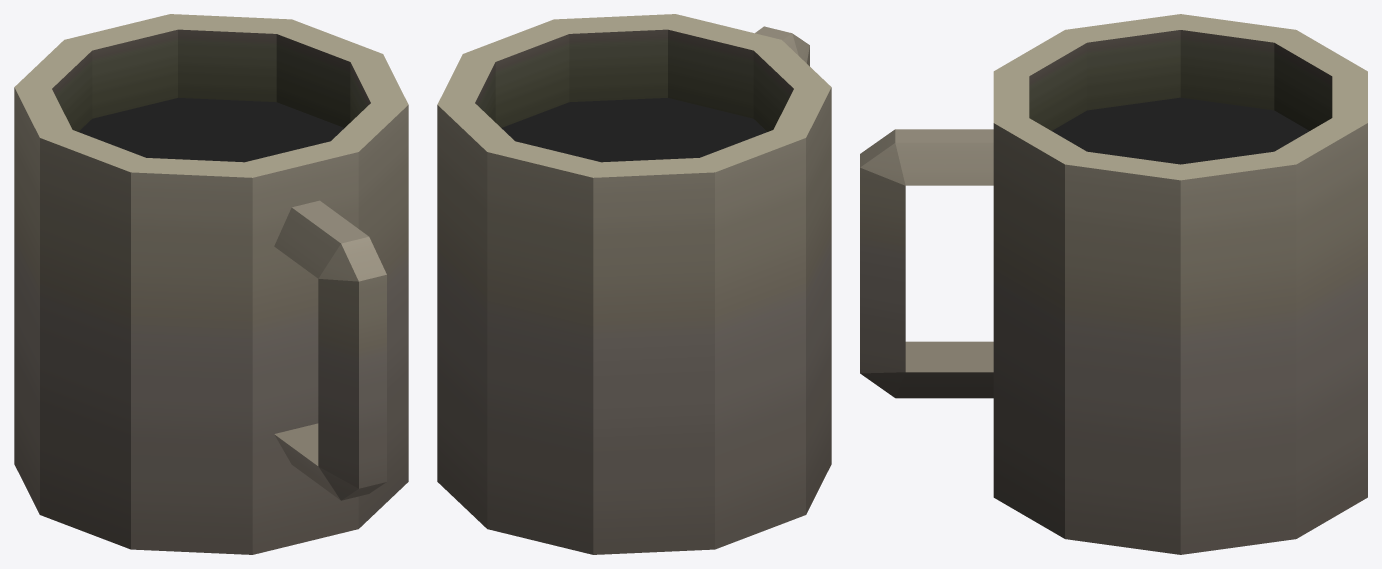
The model's file is Coffee_Mug_Breakable.fbx.
3 views of the same model, side by side, from view 1: azimuth 30°, elevation 25°; view 2: azimuth 150°, elevation 25°; view 3: azimuth 270°, elevation 25° (orthographic).
Parts seen in each view (by area): view 1: Coffee_Mug1, Coffee_Mug2, Coffee_Mug3, Coffee_Mug4; view 2: Coffee_Mug1, Coffee_Mug2, Coffee_Mug3, Coffee_Mug4; view 3: Coffee_Mug4, Coffee_Mug1, Coffee_Mug2, Coffee_Mug3.
Boxes of the visible parts, left/top/right/bottom form: Coffee_Mug1: left=14, top=117, right=386, bottom=554; Coffee_Mug2: left=14, top=14, right=363, bottom=178; Coffee_Mug3: left=253, top=47, right=408, bottom=245; Coffee_Mug4: left=356, top=215, right=408, bottom=529; Coffee_Mug1: left=536, top=25, right=831, bottom=554; Coffee_Mug2: left=437, top=64, right=769, bottom=479; Coffee_Mug3: left=437, top=14, right=719, bottom=360; Coffee_Mug4: left=437, top=310, right=537, bottom=540; Coffee_Mug4: left=993, top=229, right=1367, bottom=554; Coffee_Mug1: left=860, top=14, right=1251, bottom=398; Coffee_Mug2: left=1143, top=20, right=1367, bottom=406; Coffee_Mug3: left=993, top=96, right=1332, bottom=374.
Size of the model in its own units: 13.78 by 14.47 by 17.78.
Materials: 1 (1 with a texture image).
